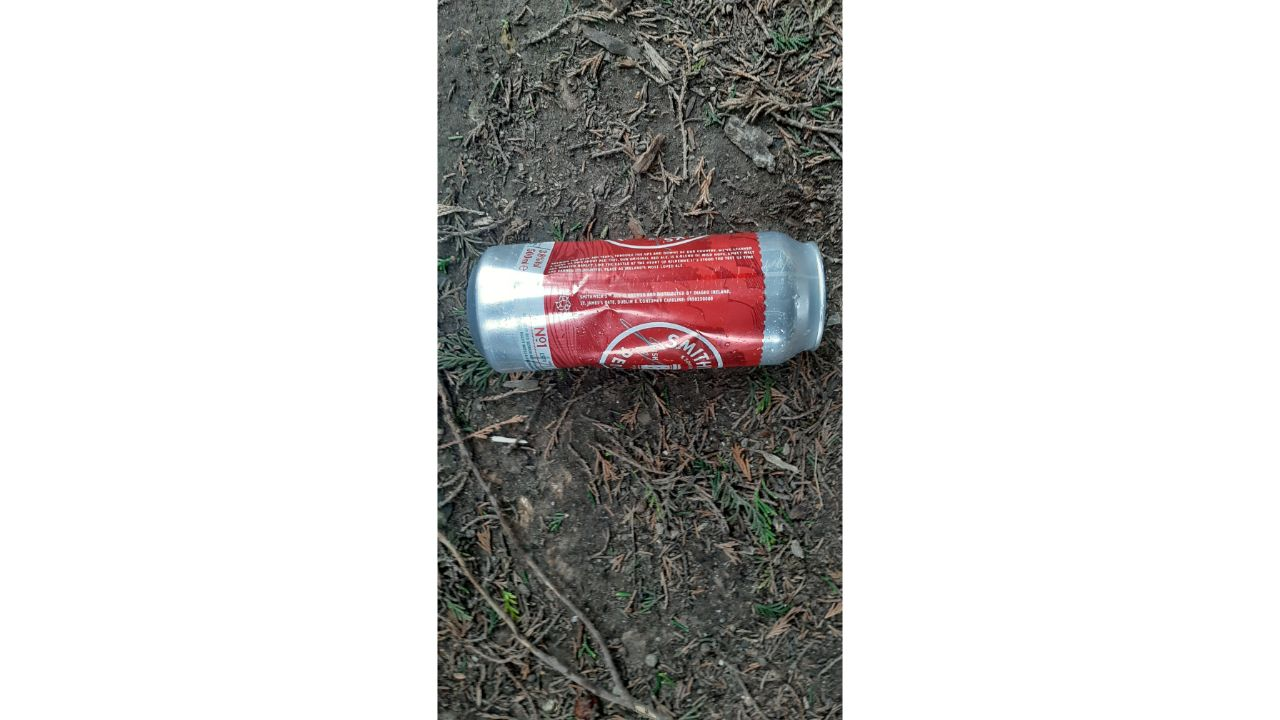Can: (466, 234, 827, 373)
